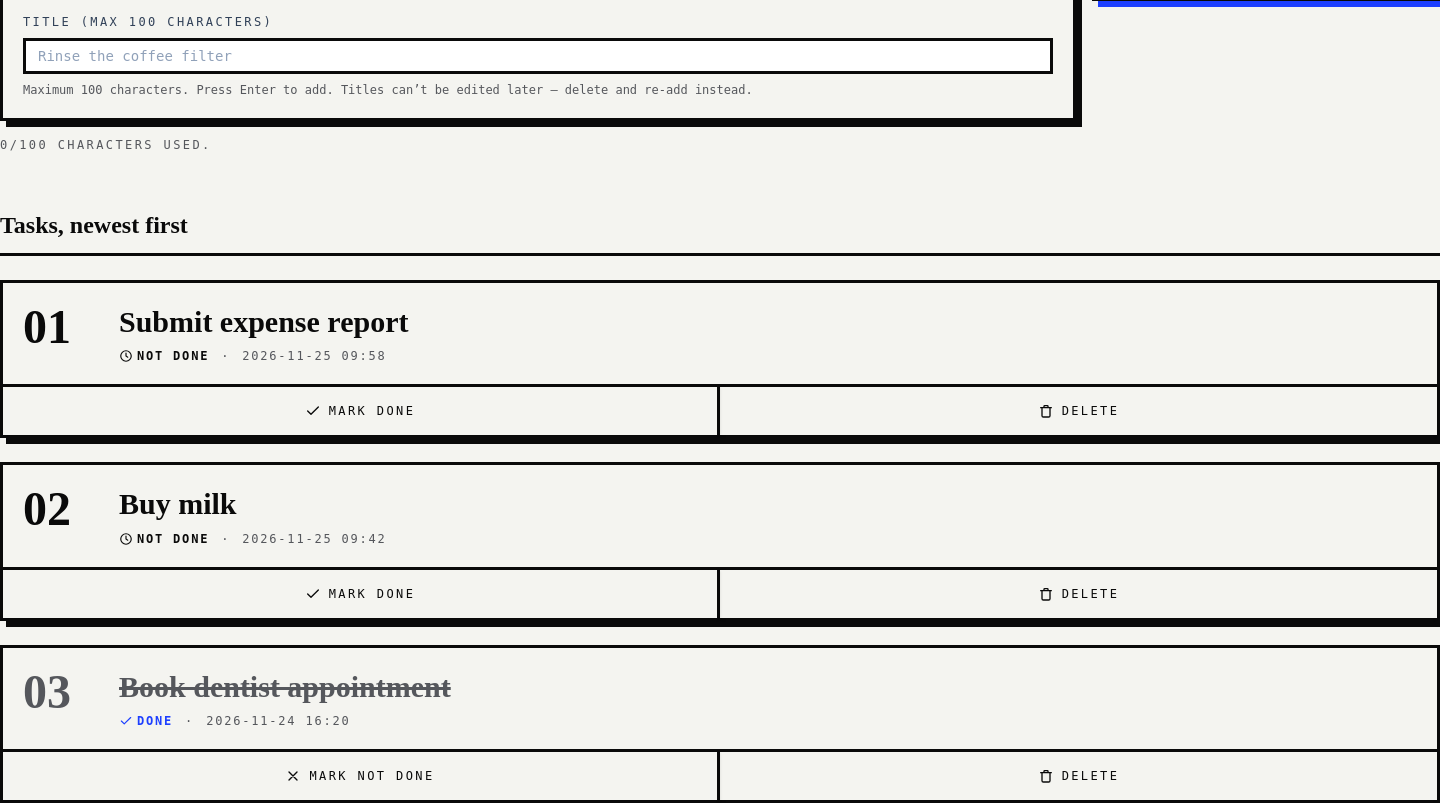
Tasks — one global list shared by every visitor › [AC-012] deletes a task added by another visitor from the shared list
(page scrolled)
Click the button with test id "delete-btn" at {"x": 1078, "y": 776}, box [720, 752, 1437, 800]
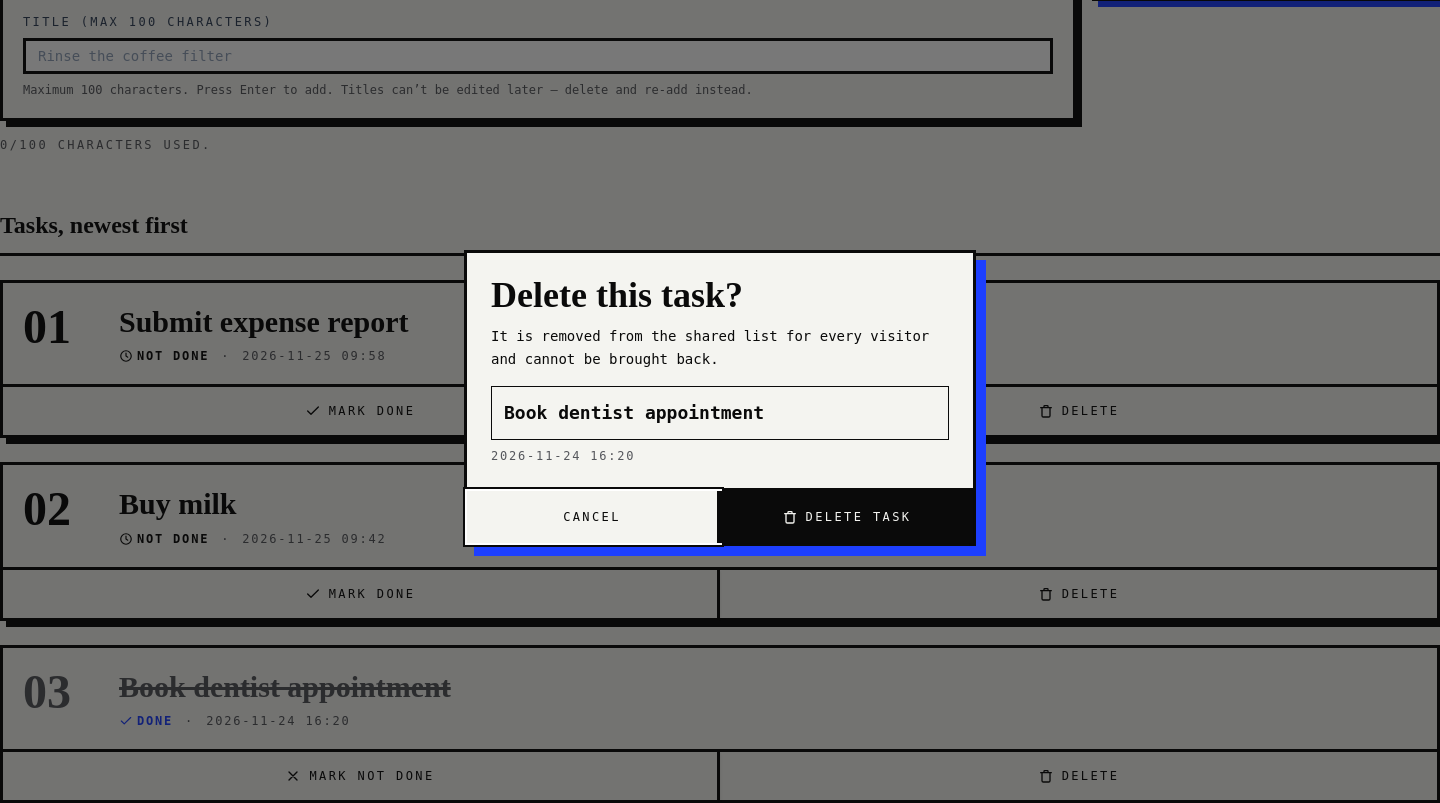
Now the heading "Delete this task?" is shown, box [491, 275, 743, 315]
Click the button with test id "delete-task-btn" at {"x": 846, "y": 517}, box [720, 491, 973, 543]
(page scrolled)
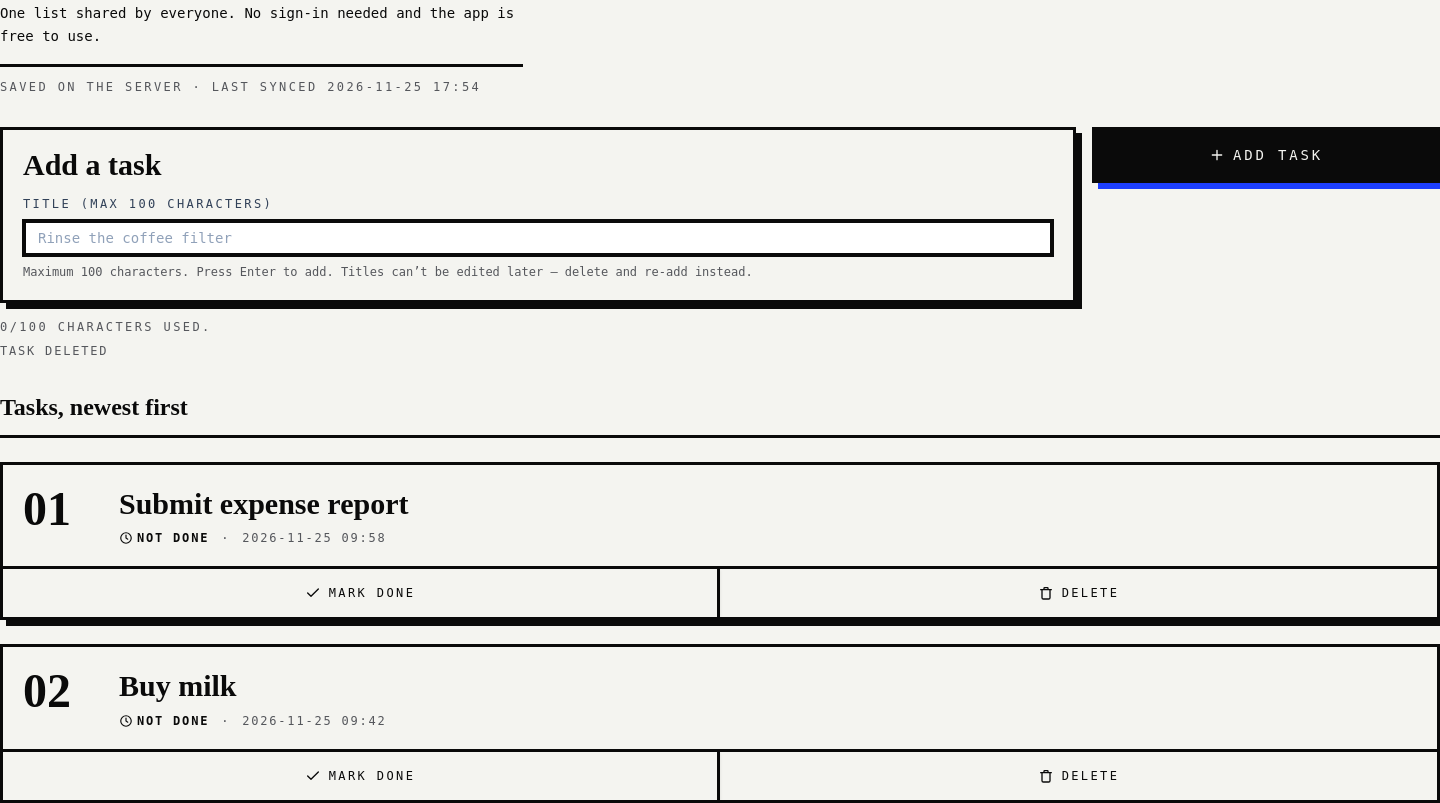
Now the text "Task deleted" is shown, box [0, 344, 108, 358]
Now the heading "Book dentist appointment" is gone
